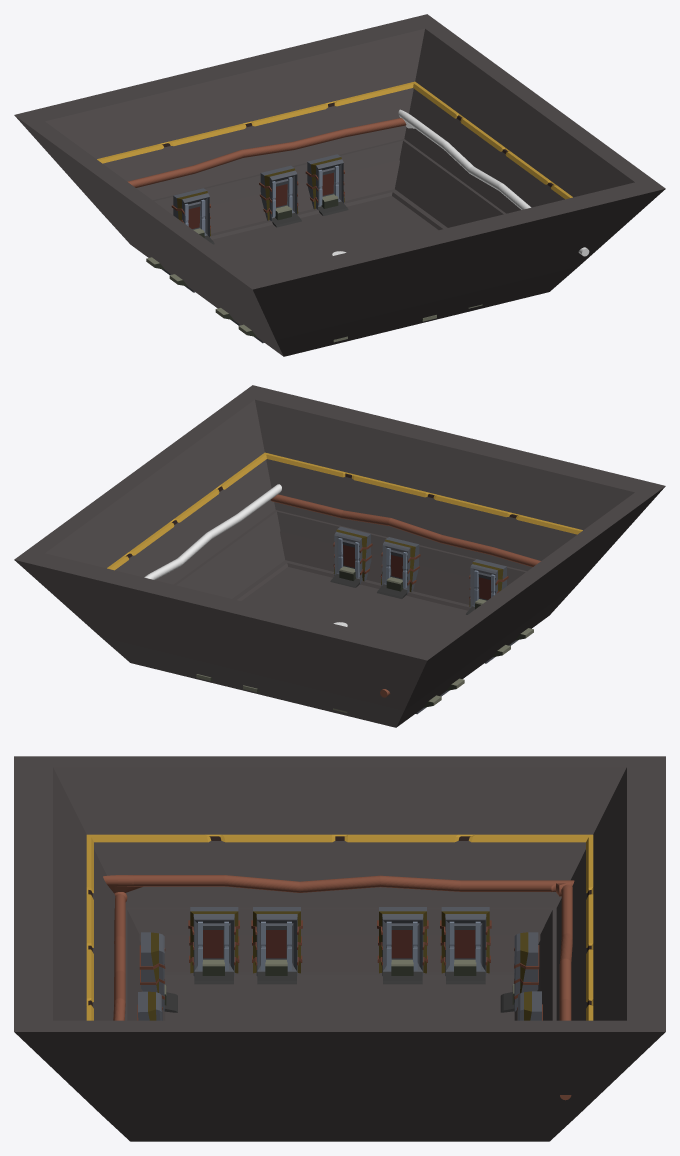
Rendered from Lobby_Room.fbx.
The picture shows the model from 3 angles, top to bottom: view 1: azimuth 30°, elevation 25°; view 2: azimuth 150°, elevation 25°; view 3: azimuth 270°, elevation 25°; orthographic projection. The views are drawn at different scales.
Parts seen in each view (by area): view 1: Cylinder.004, Cylinder.001, Plane.001, Cube.007, Cube.008, Cylinder.003, Cube.006; view 2: Cylinder.004, Cylinder.001, Plane.001, Cube.003, Cube.009, Cylinder.003, Cube.004; view 3: Cylinder.004, Cylinder.001, Plane.001, Cube.001, Cube.002, Cube.005, Cube.000, Cube.006, Cube.004, Cube.003, Cube.007.
Part boxes in pixels (x1,y1,x2,y2): Cylinder.004: (14, 14, 665, 339); Cylinder.001: (102, 88, 578, 356); Plane.001: (97, 81, 572, 199); Cube.007: (259, 165, 301, 227); Cube.008: (305, 154, 348, 215); Cylinder.003: (398, 109, 589, 256); Cube.006: (171, 188, 214, 244); Cylinder.004: (14, 385, 665, 710); Cylinder.001: (101, 459, 577, 727); Plane.001: (107, 452, 582, 570); Cube.003: (377, 537, 420, 598); Cube.009: (330, 526, 372, 587); Cylinder.003: (144, 484, 281, 579); Cube.004: (466, 559, 508, 614); Cylinder.004: (14, 756, 665, 1114); Cylinder.001: (92, 841, 587, 1141); Plane.001: (86, 834, 593, 1020); Cube.001: (188, 907, 239, 984); Cube.002: (440, 907, 491, 984); Cube.005: (377, 907, 428, 984); Cube.000: (251, 907, 302, 984); Cube.006: (500, 932, 539, 1012); Cube.004: (139, 932, 177, 1012); Cube.003: (137, 991, 162, 1020); Cube.007: (517, 991, 542, 1020).
Bounding box in the file's own units: 6221 × 1775 × 6221.
